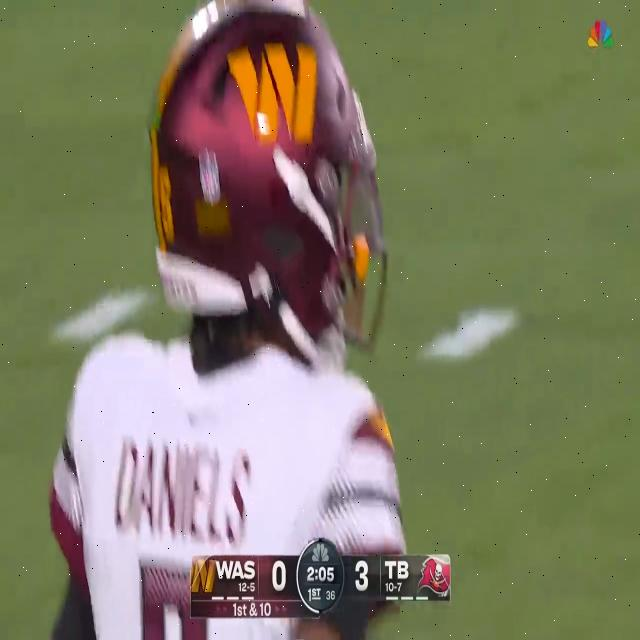Player: (41, 7, 403, 640)
